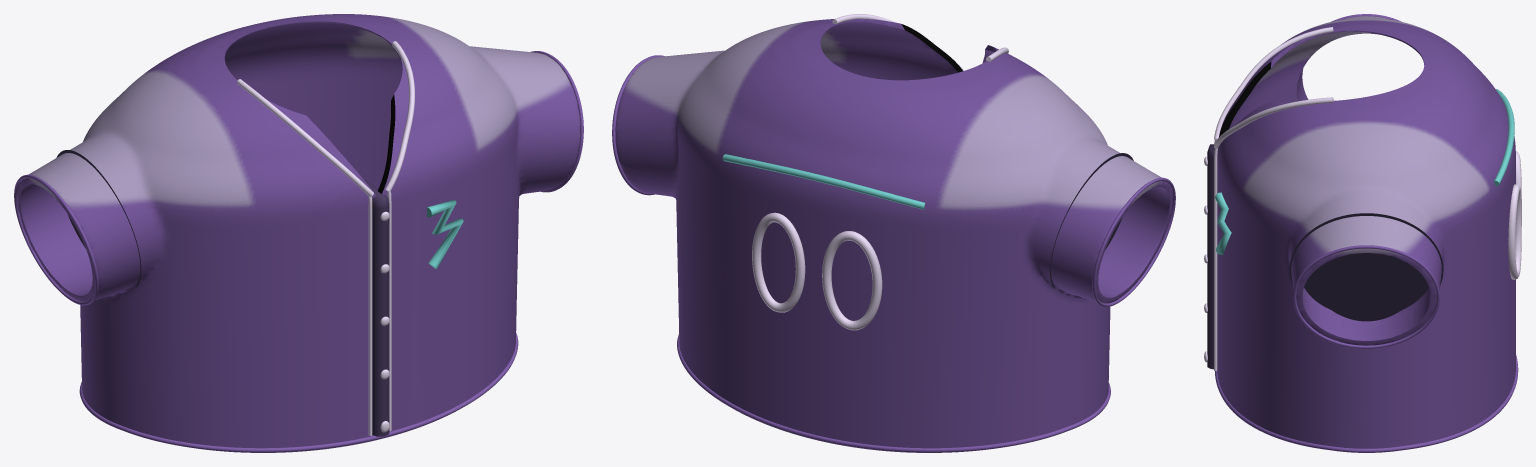
File: Masculine-jersey-top.glb
3 renders of one model, left to right at view 1: azimuth 30°, elevation 25°; view 2: azimuth 150°, elevation 25°; view 3: azimuth 270°, elevation 25°, orthographic. The views are drawn at different scales.
Visible parts, largest first — view 1: Clothing / jersey, Jersey / button placket export, Shirt / hem export, Sleeve / open cuff -1 export, Jersey / placket piping export, Jersey / V piping export, Jersey / chest signal export, Jersey / V piping.001 export, Jersey / placket piping.001 export, Sleeve / open cuff 1 export; view 2: Clothing / jersey, Shirt / hem export, Jersey / back 00 export, Jersey / back 00.001 export, Jersey / back yoke accent export, Sleeve / open cuff -1 export, Sleeve / open cuff 1 export; view 3: Clothing / jersey, Sleeve / recessed facing 1, Shirt / hem export, Jersey / button placket export, Sleeve / open cuff 1 export, Jersey / back 00.001 export, Jersey / V piping export, Jersey / placket piping.001 export, Jersey / V piping.001 export, Jersey / back yoke accent export, Jersey / chest signal export.
Part boxes in pixels (x1,y1,x2,y2): Clothing / jersey: (17,14,580,452); Jersey / button placket export: (363,179,389,436); Shirt / hem export: (79,332,518,452); Sleeve / open cuff -1 export: (14,174,98,305); Jersey / placket piping export: (368,196,372,435); Jersey / V piping export: (236,79,373,196); Jersey / chest signal export: (427,200,463,268); Jersey / V piping.001 export: (385,41,414,191); Jersey / placket piping.001 export: (387,191,391,431); Sleeve / open cuff 1 export: (531,51,583,192); Clothing / jersey: (615,19,1172,452); Shirt / hem export: (677,334,1110,452); Jersey / back 00 export: (822,231,882,330); Jersey / back 00.001 export: (752,212,805,312); Jersey / back yoke accent export: (722,154,925,209); Sleeve / open cuff -1 export: (1092,177,1175,306); Sleeve / open cuff 1 export: (612,55,664,195); Clothing / jersey: (1217,16,1515,448); Sleeve / recessed facing 1: (1289,213,1443,321); Shirt / hem export: (1215,355,1518,452); Jersey / button placket export: (1207,144,1214,369); Sleeve / open cuff 1 export: (1293,245,1439,348); Jersey / back 00.001 export: (1508,184,1521,279); Jersey / V piping export: (1214,27,1333,139); Jersey / placket piping.001 export: (1214,148,1217,370); Jersey / V piping.001 export: (1214,97,1333,148); Jersey / back yoke accent export: (1494,89,1514,186); Jersey / chest signal export: (1215,192,1231,254).
Bounding box in the file's own units: 0.9725 × 0.6048 × 0.5613.
